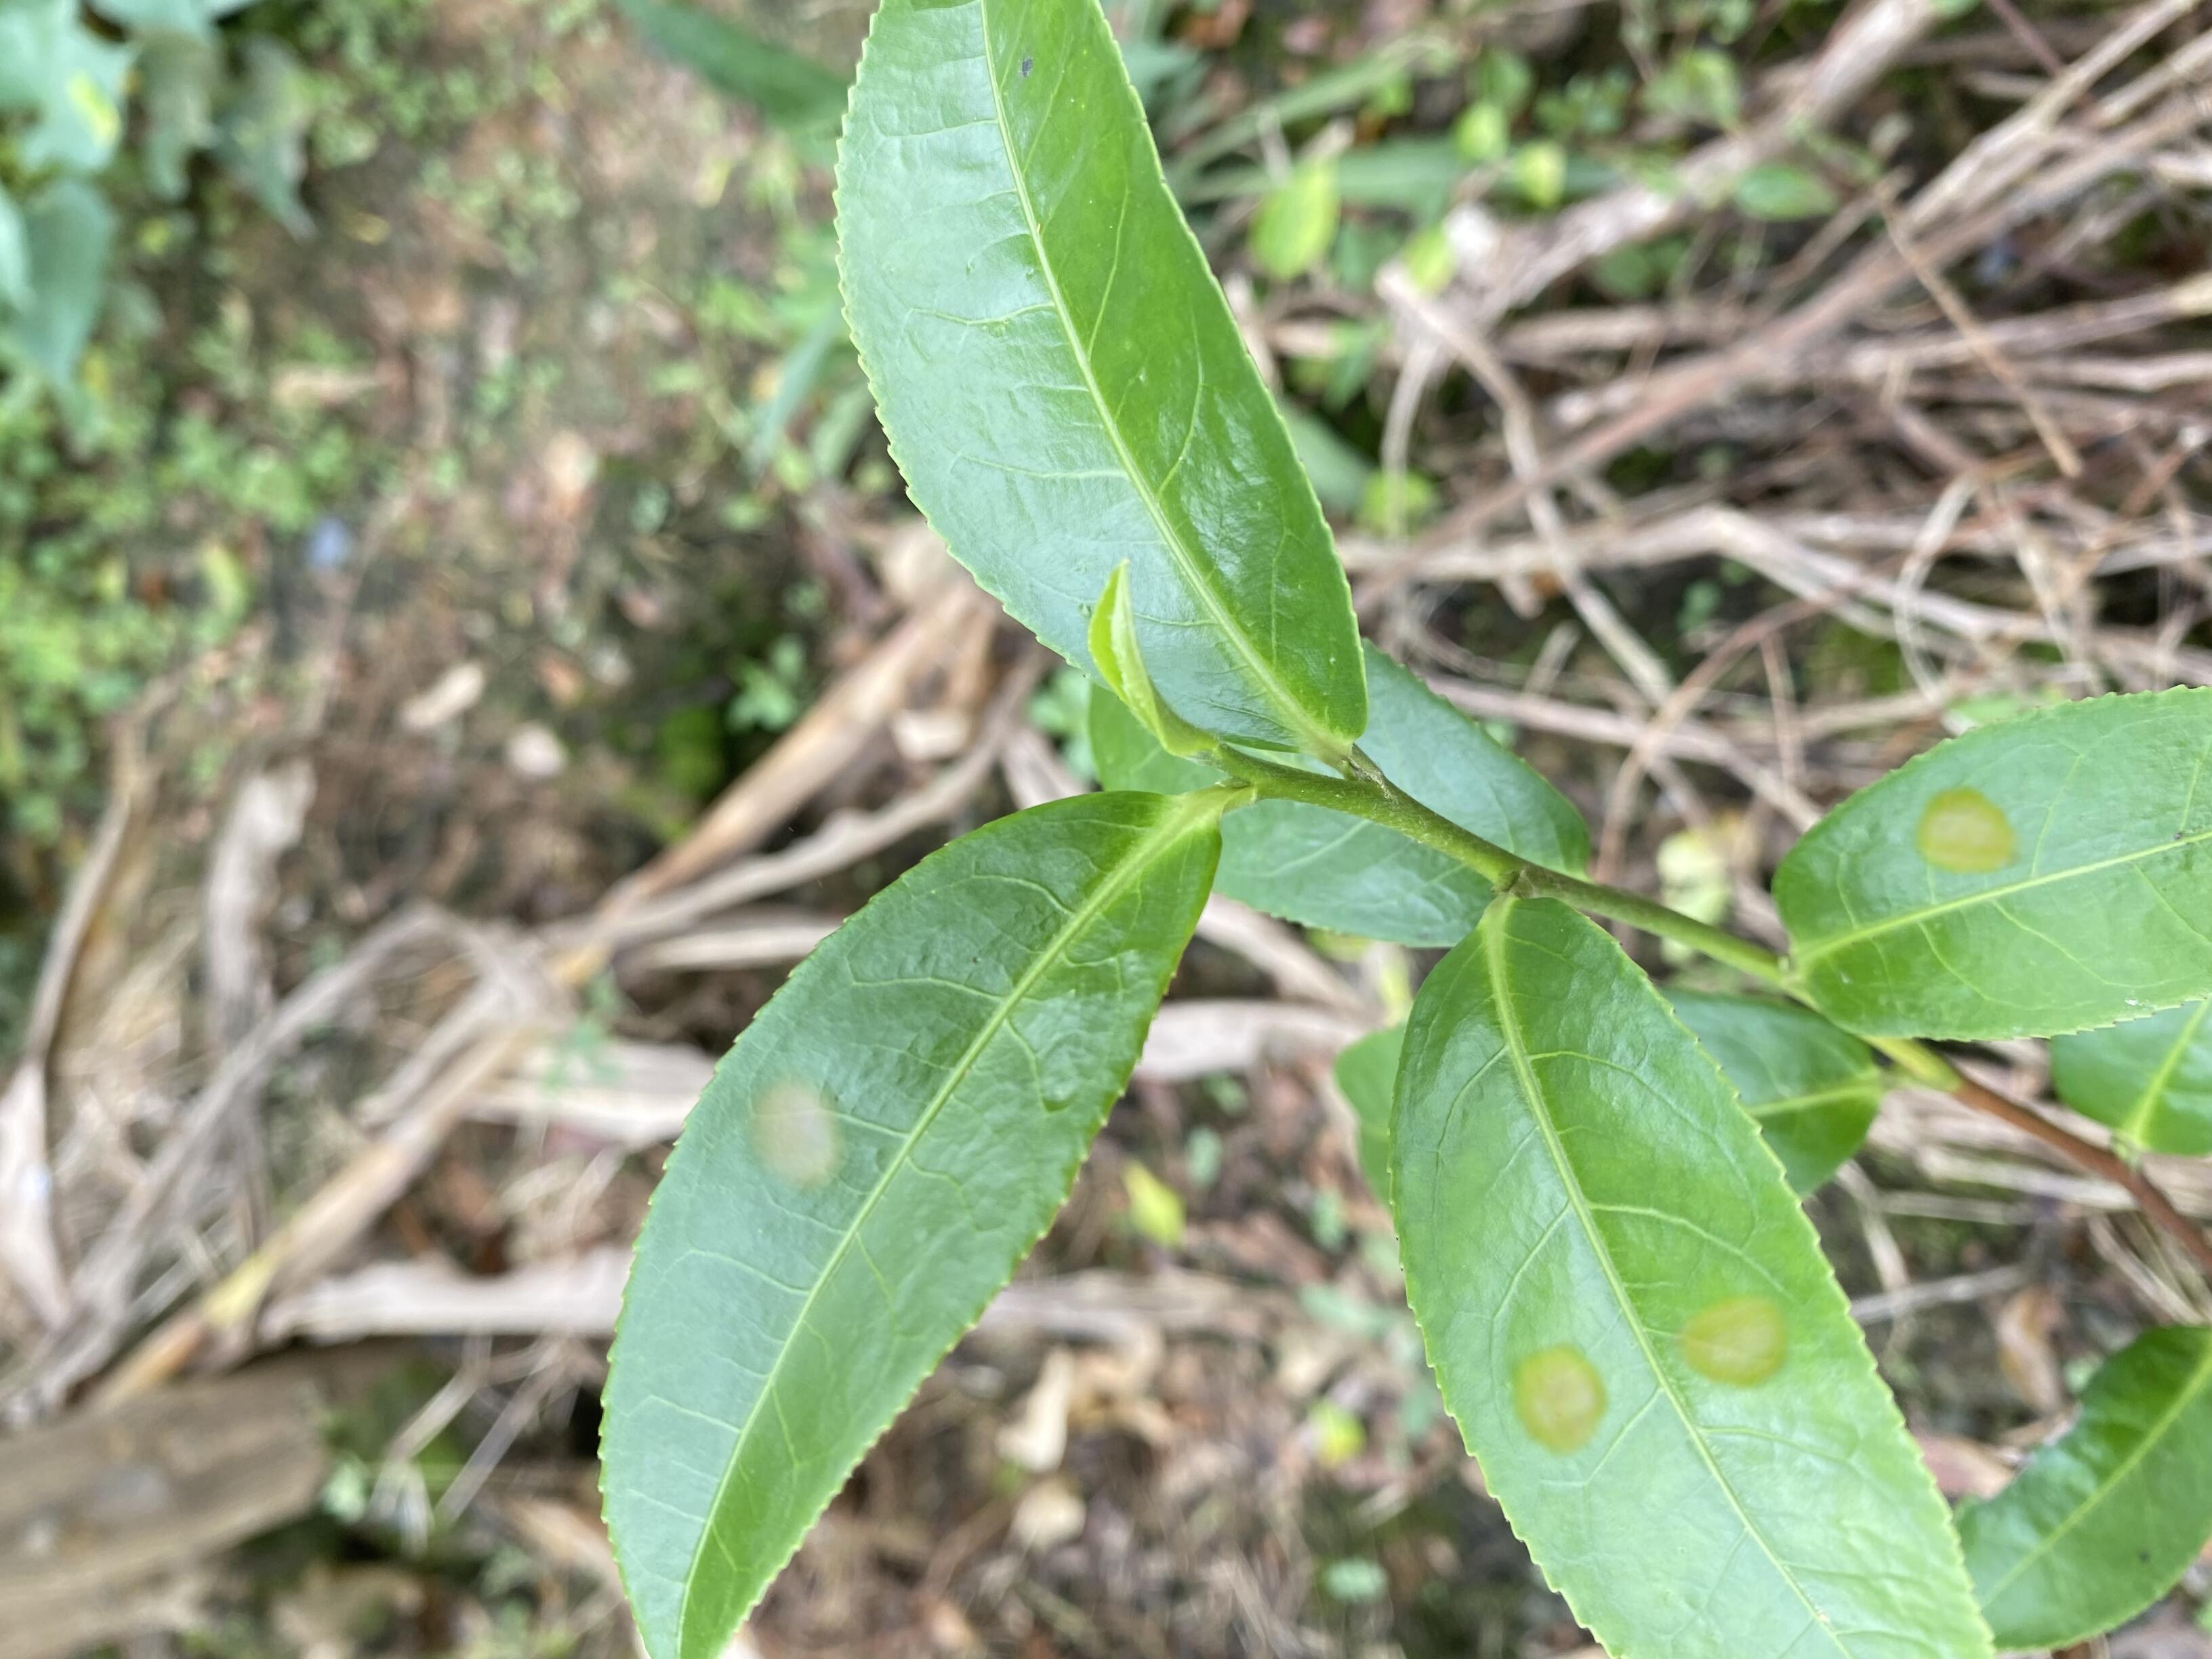chabing_high: (1386, 897, 2001, 1656)
chabing_low: (596, 788, 1221, 1659), (1770, 683, 2210, 1046)
